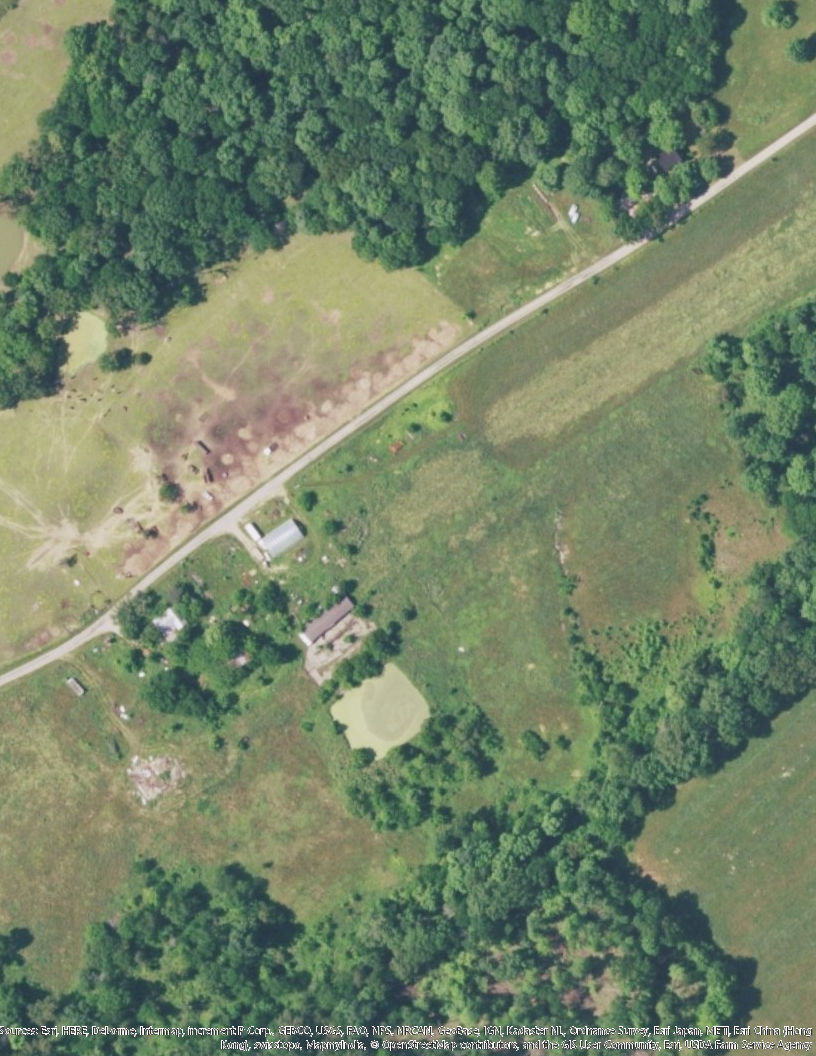cafo: (242, 507, 315, 560)
